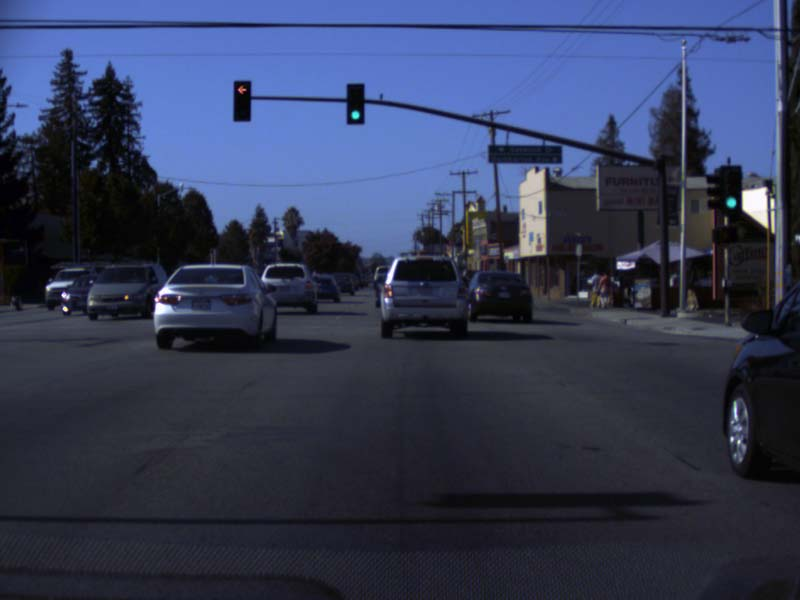Green: (719, 165, 740, 215), (345, 82, 363, 124)
Red: (233, 80, 249, 122)
